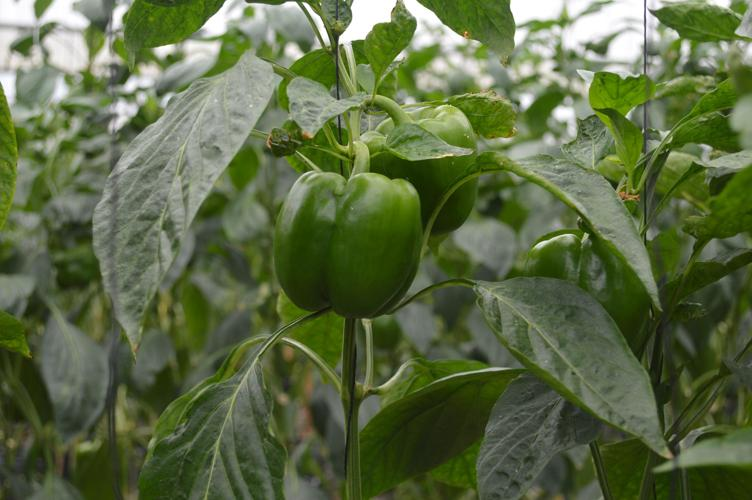BellPepper: (274, 178, 420, 317), (366, 104, 480, 222), (538, 242, 648, 339)
